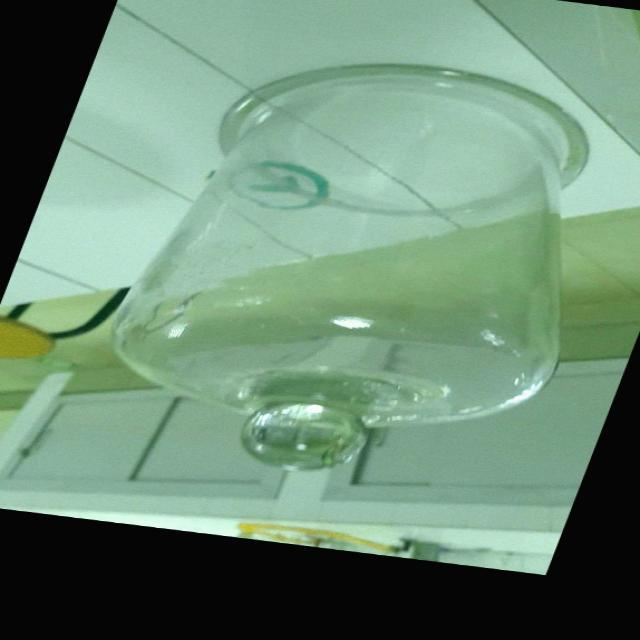Gas Bottle: (45, 35, 640, 497)
